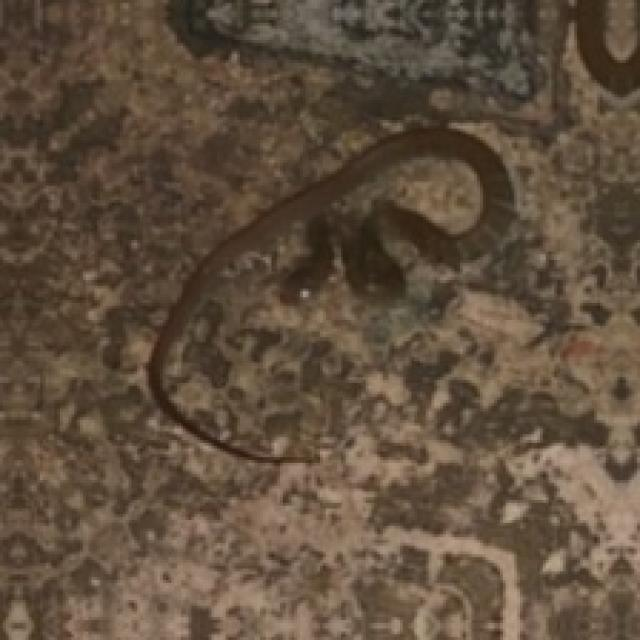reddish rat snake: (149, 129, 511, 460)
